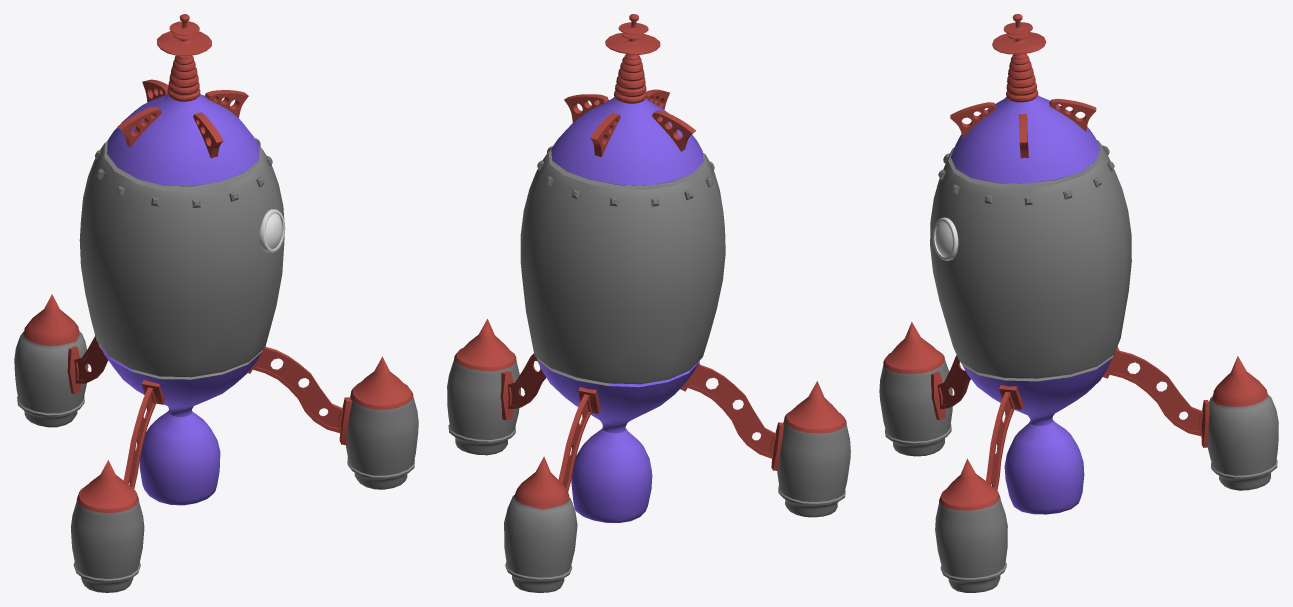
The model's file is Cohete.fbx.
The picture shows the model from 3 angles, left to right: view 1: azimuth 30°, elevation 25°; view 2: azimuth 150°, elevation 25°; view 3: azimuth 270°, elevation 25°; orthographic projection.
Parts seen in each view (by area): view 1: Patas; view 2: Patas; view 3: Patas.
Part boxes in pixels (x1=…): Patas: x1=14, y1=14, x2=418, y2=592; Patas: x1=447, y1=14, x2=850, y2=592; Patas: x1=879, y1=14, x2=1278, y2=592.
Bounding box in the file's own units: 274 × 357 × 262.
